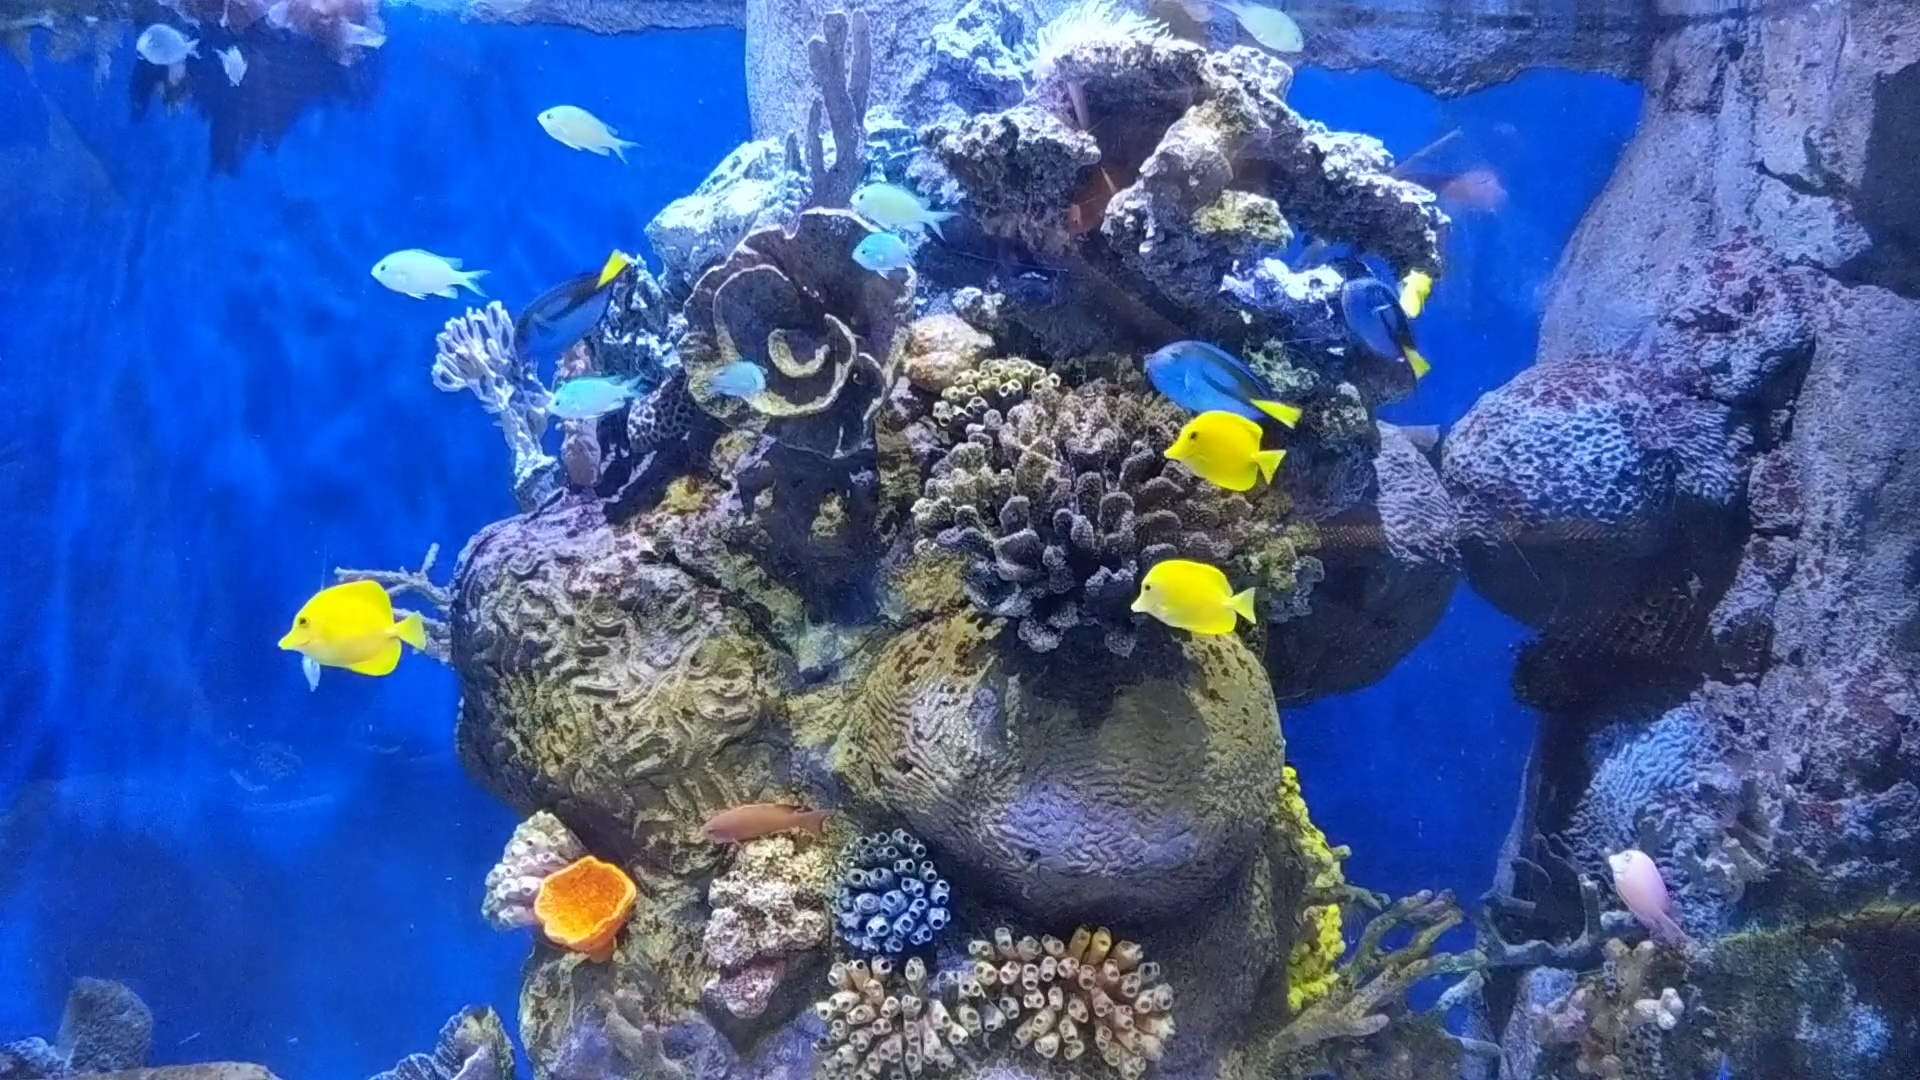blue tang surgeonfish: (498, 239, 638, 375), (1117, 332, 1309, 430), (1340, 262, 1433, 380)
damselfish: (522, 349, 654, 438), (349, 239, 492, 320), (520, 99, 650, 175), (845, 169, 945, 241), (1218, 0, 1308, 67), (121, 17, 200, 76), (695, 345, 771, 406), (843, 231, 920, 274), (212, 37, 268, 94)
pink fish: (1596, 818, 1700, 955)
saddle butterfly fish: (266, 566, 450, 696), (1116, 542, 1269, 638), (1171, 392, 1294, 506)
